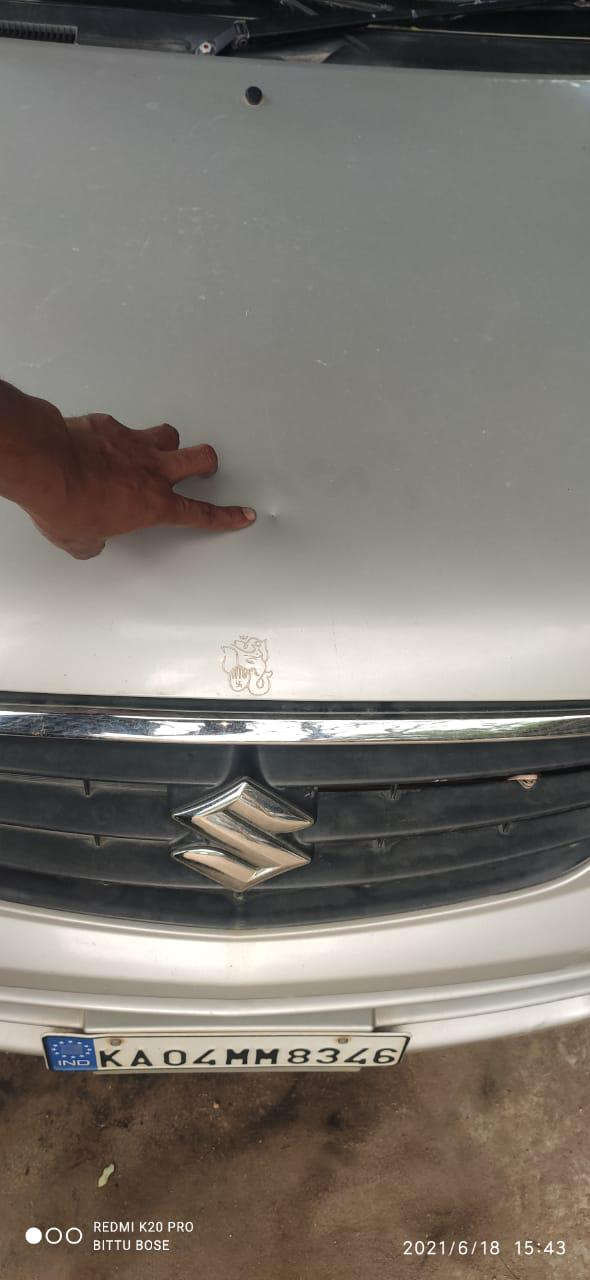bonnet-dent: (3, 33, 589, 785)
